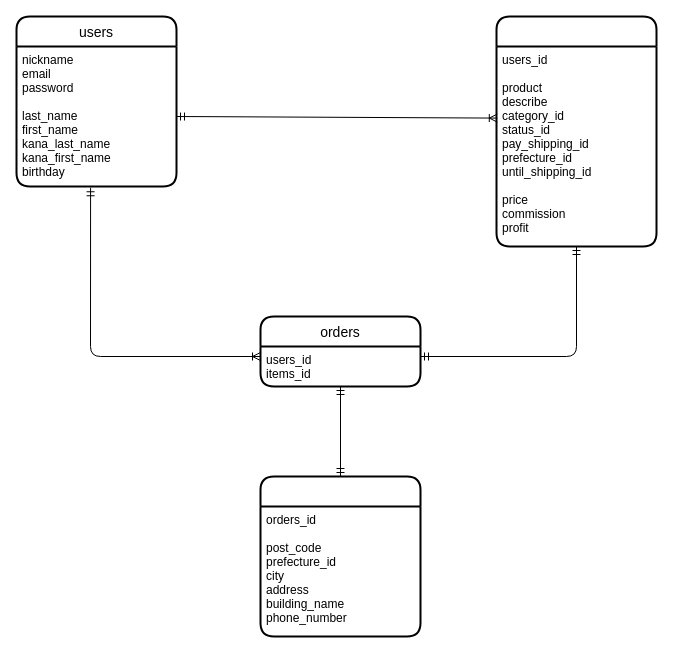
Some shapes in this 673 by 653 pixel diagram are drawn without their labels. Each missing label, with the box of its shape:
addresses: (259, 475, 421, 637)
items: (495, 15, 657, 247)
